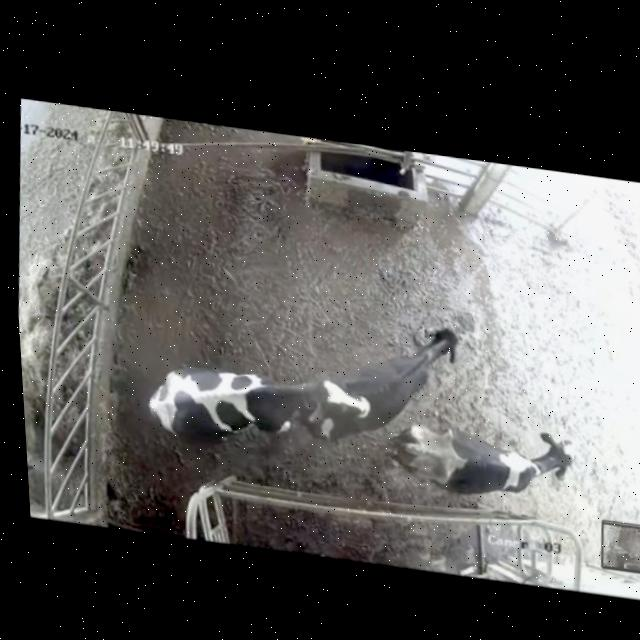ride: (125, 334, 381, 479)
stand: (297, 286, 469, 468), (385, 396, 585, 515)
